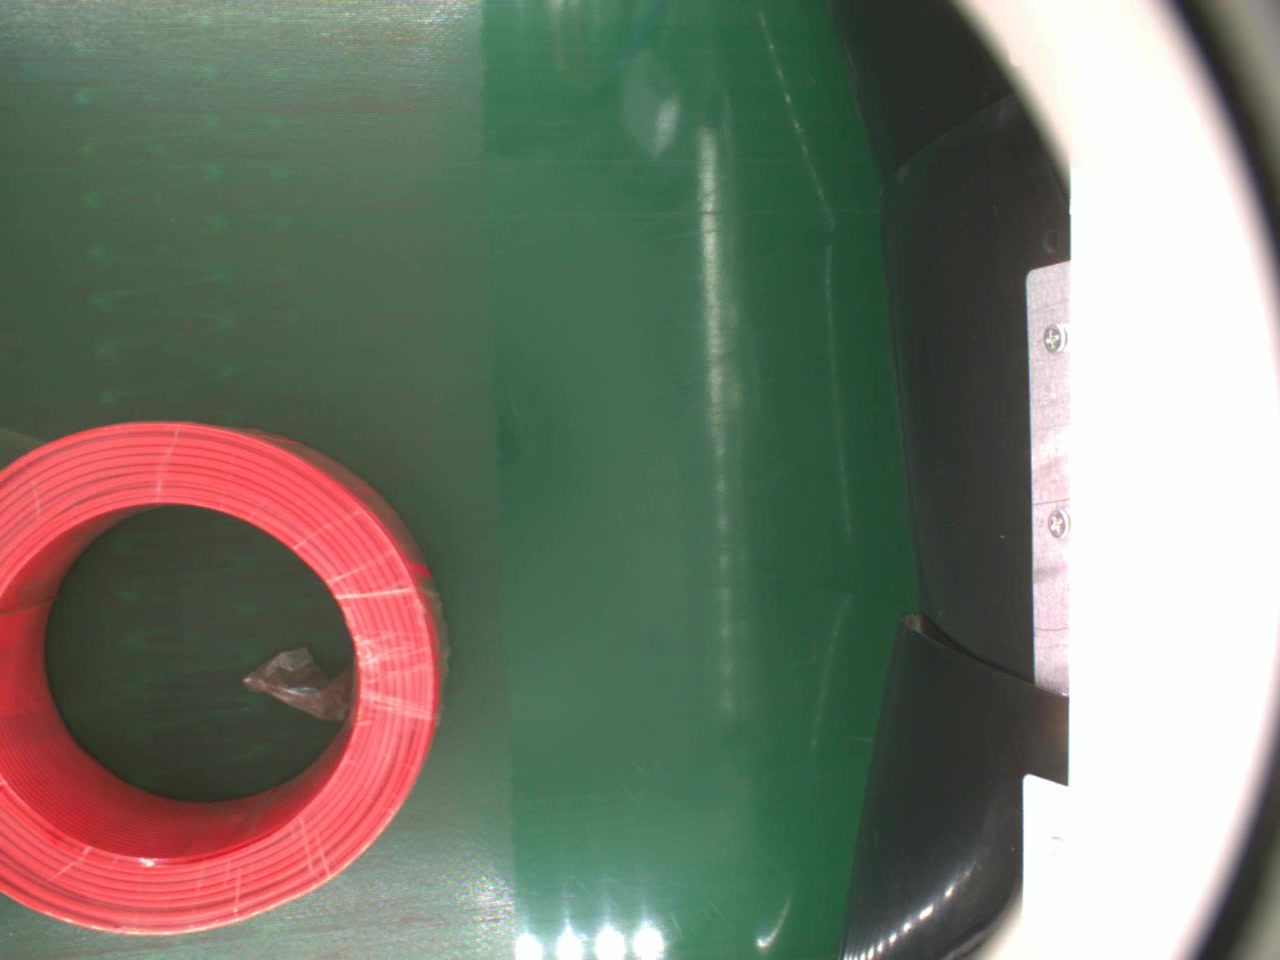red: (0, 419, 452, 934)
